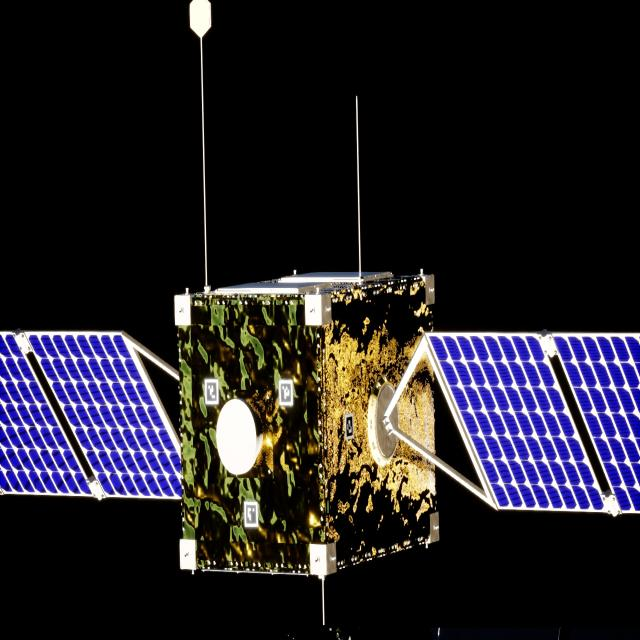medium_debris: (0, 271, 640, 578)
